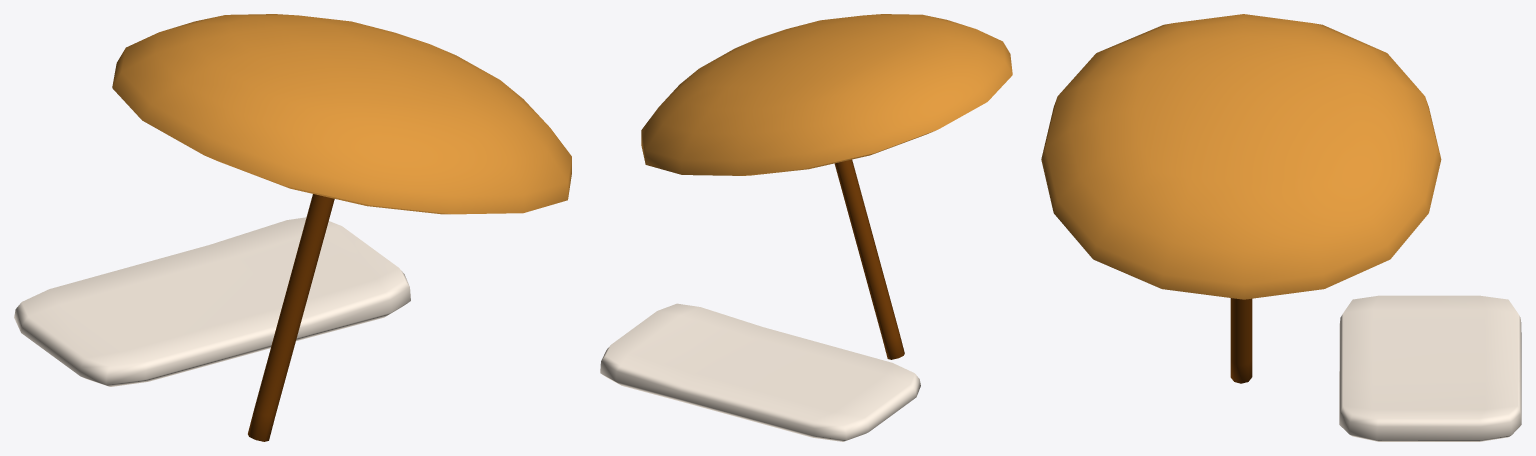
File: BeachCot.fbx
The picture shows the model from 3 angles, left to right: view 1: azimuth 30°, elevation 25°; view 2: azimuth 150°, elevation 25°; view 3: azimuth 270°, elevation 25°; orthographic projection. The views are drawn at different scales.
Visible parts, largest first — view 1: pCube4; view 2: pCube4; view 3: pCube4.
Part boxes in pixels (<box>): pCube4: <box>14,14,571,441</box>; pCube4: <box>600,14,1012,441</box>; pCube4: <box>1041,14,1521,441</box>.
Size of the model in its own units: 1.12 by 1.04 by 1.32.
